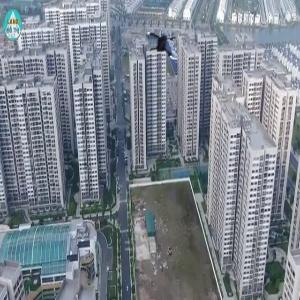drone: (141, 21, 187, 67)
